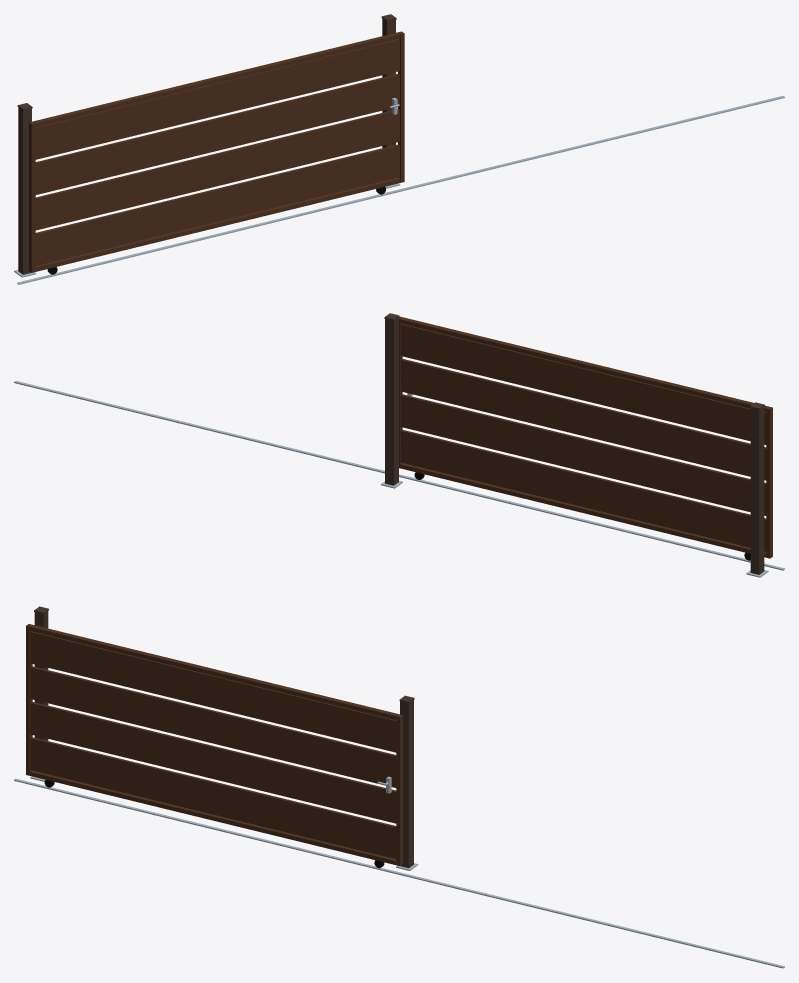
Rendered from 02-klizna.glb.
The picture shows the model from 3 angles, top to bottom: view 1: azimuth 30°, elevation 25°; view 2: azimuth 150°, elevation 25°; view 3: azimuth 330°, elevation 25°; orthographic projection.
Visible parts, largest first — view 1: Ispuna_horizontalna.081, Ispuna_horizontalna.082, Ispuna_horizontalna.083, Ispuna_horizontalna.084, Ram_gornji.009, Okov_vodilica_demo.001, Ram_donji.009, Stub_levi.007, Ram_bocni.018, Ram_bocni.019; view 2: Ispuna_horizontalna.082, Ispuna_horizontalna.083, Ispuna_horizontalna.081, Ispuna_horizontalna.084, Ram_gornji.009, Okov_vodilica_demo.001, Stub_levi.007, Ram_donji.009, Stub_desni.007, Ram_bocni.018; view 3: Ispuna_horizontalna.081, Ispuna_horizontalna.082, Ispuna_horizontalna.083, Ispuna_horizontalna.084, Ram_gornji.009, Okov_vodilica_demo.001, Ram_donji.009, Stub_desni.007, Ram_bocni.019, Ram_bocni.018.
Boxes of the visible parts, <box> form: Ispuna_horizontalna.081: <box>35,144,399,265</box>; Ispuna_horizontalna.082: <box>35,109,399,230</box>; Ispuna_horizontalna.083: <box>35,73,399,194</box>; Ispuna_horizontalna.084: <box>35,39,399,159</box>; Ram_gornji.009: <box>33,32,400,127</box>; Okov_vodilica_demo.001: <box>17,96,784,284</box>; Ram_donji.009: <box>35,177,400,271</box>; Stub_levi.007: <box>18,107,31,274</box>; Ram_bocni.018: <box>29,121,35,272</box>; Ram_bocni.019: <box>398,31,404,182</box>; Ispuna_horizontalna.082: <box>400,394,766,515</box>; Ispuna_horizontalna.083: <box>400,358,766,480</box>; Ispuna_horizontalna.081: <box>400,429,766,551</box>; Ispuna_horizontalna.084: <box>400,323,766,444</box>; Ram_gornji.009: <box>400,317,768,412</box>; Okov_vodilica_demo.001: <box>14,381,784,570</box>; Stub_levi.007: <box>750,407,764,574</box>; Ram_donji.009: <box>400,463,766,557</box>; Stub_desni.007: <box>385,317,398,485</box>; Ram_bocni.018: <box>766,406,772,558</box>; Ispuna_horizontalna.081: <box>30,737,396,858</box>; Ispuna_horizontalna.082: <box>30,701,396,823</box>; Ispuna_horizontalna.083: <box>30,666,396,787</box>; Ispuna_horizontalna.084: <box>30,631,396,752</box>; Ram_gornji.009: <box>30,625,398,719</box>; Okov_vodilica_demo.001: <box>14,778,784,968</box>; Ram_donji.009: <box>30,770,396,864</box>; Stub_desni.007: <box>400,700,413,868</box>; Ram_bocni.019: <box>396,714,402,865</box>; Ram_bocni.018: <box>26,624,32,775</box>.
Bounding box in the file's own units: 8.63 × 1.8 × 0.38.
Materials: 4 (1 with a texture image).
